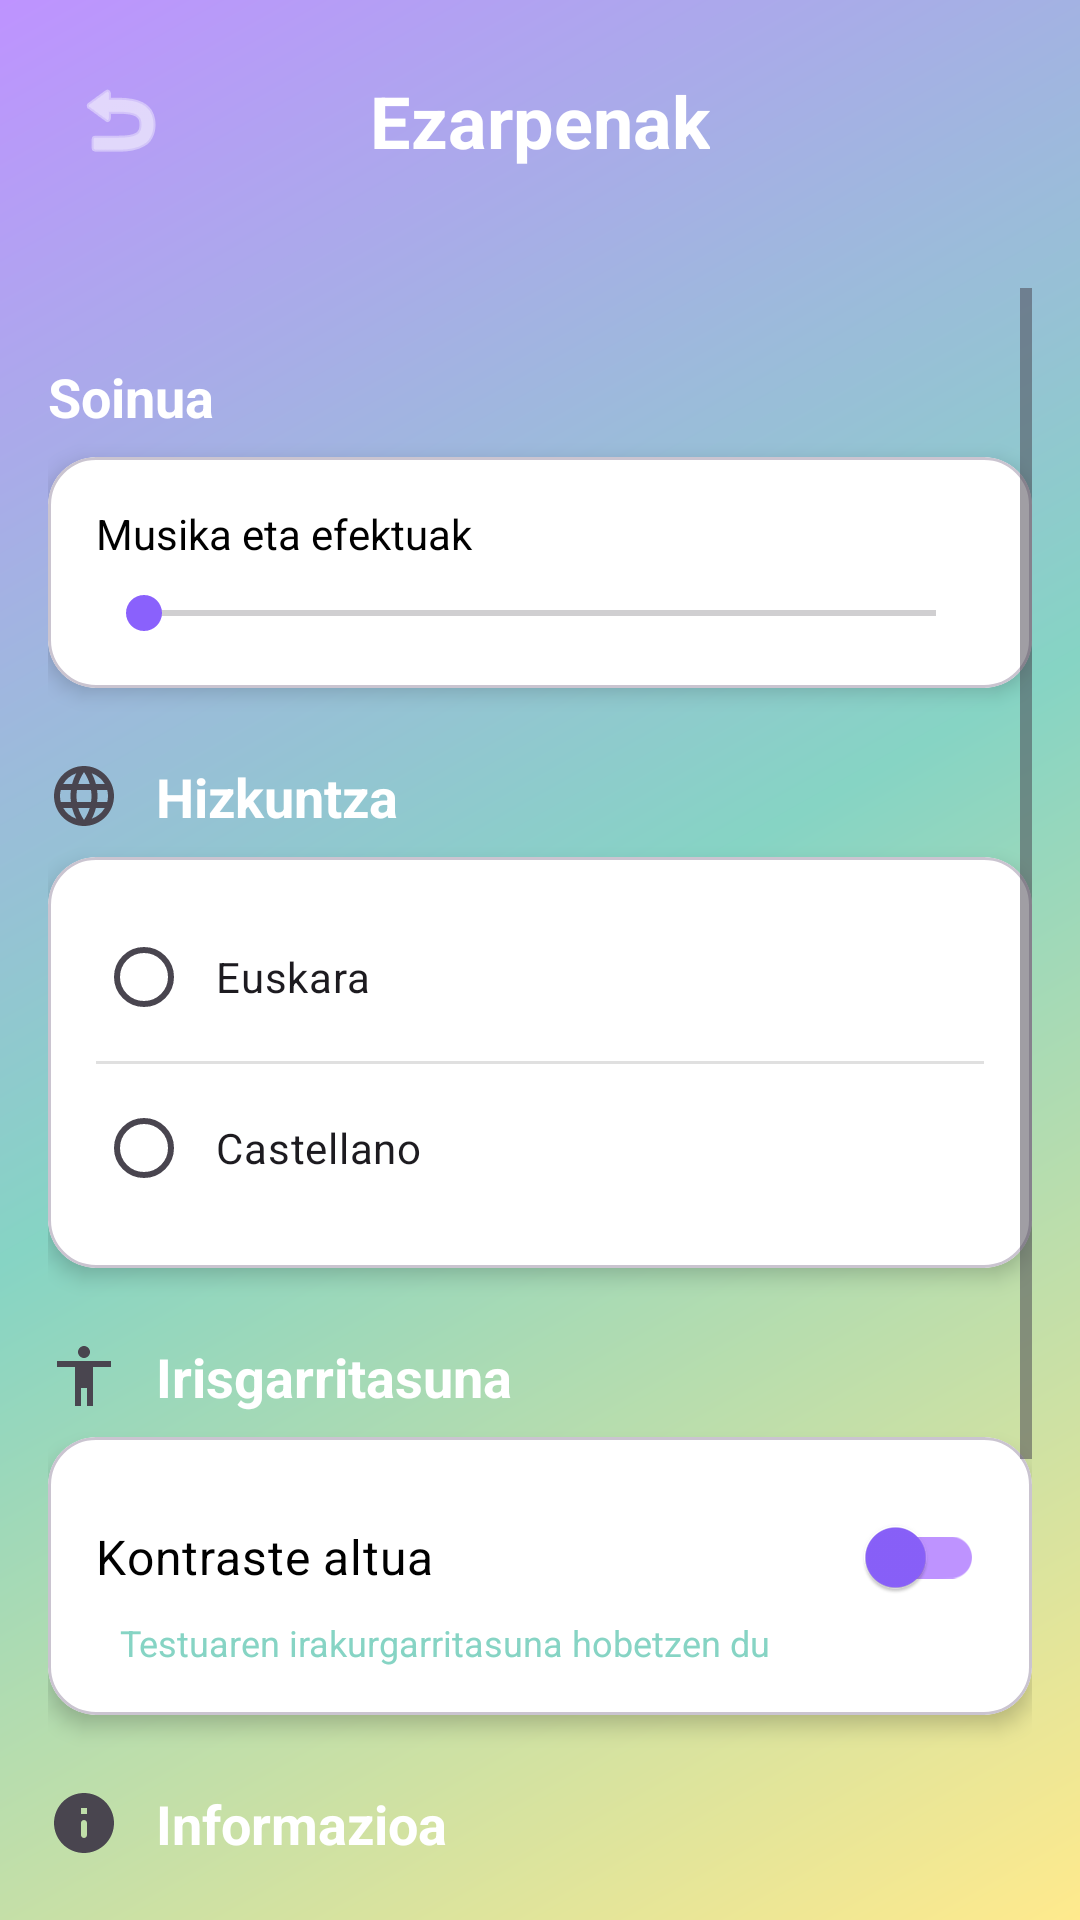

Locate icon controls on the screen. Image size 1080*1920, boxes as BBox(x1, y1, x2, y2).
revert: BBox(87, 90, 155, 152)
